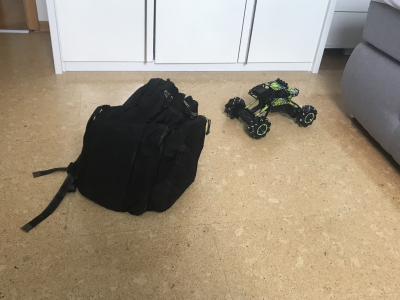remote control car: (220, 74, 319, 140)
